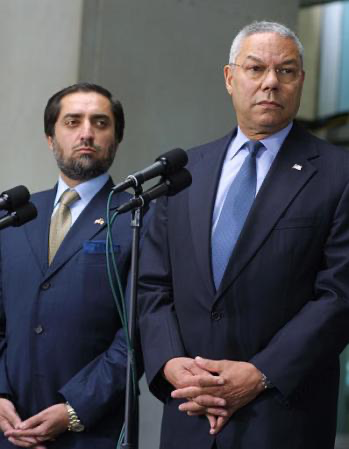Face: (228, 49, 309, 130), (54, 103, 120, 178)
